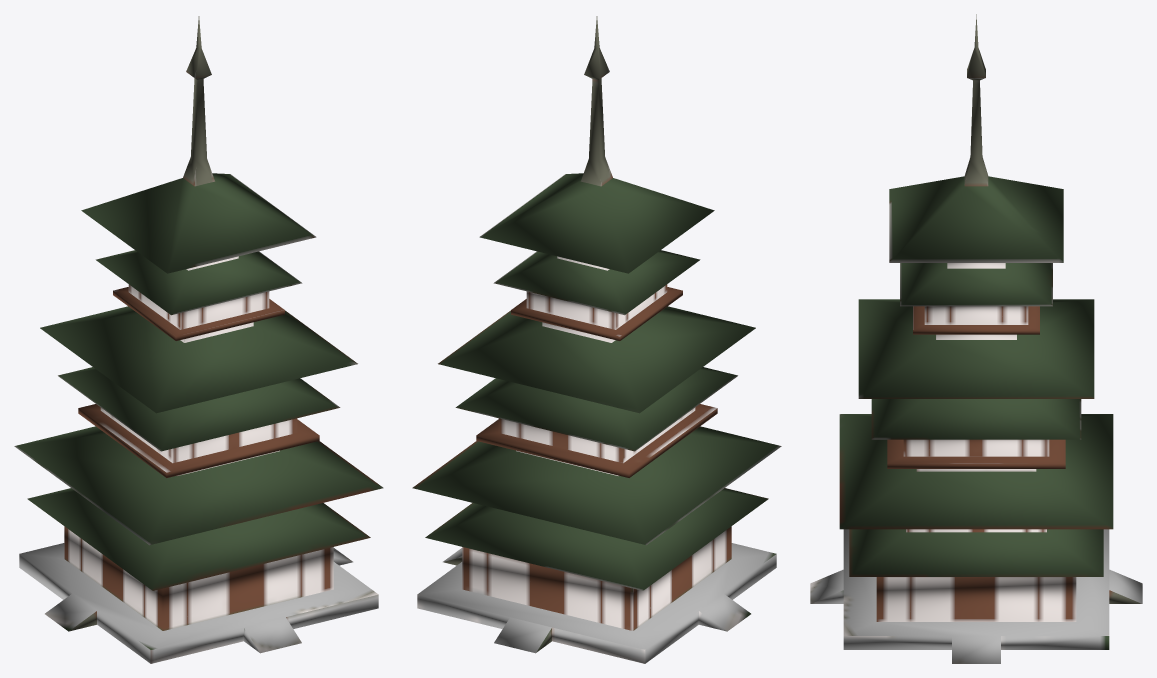
Rendered from pagode.fbx.
3 renders of one model, left to right at view 1: azimuth 30°, elevation 25°; view 2: azimuth 150°, elevation 25°; view 3: azimuth 270°, elevation 25°, orthographic.
Parts seen in each view (by area): view 1: Cube; view 2: Cube; view 3: Cube.
Part boxes in pixels (left/top/right/bottom): Cube: left=14, top=16, right=383, bottom=663; Cube: left=412, top=16, right=781, bottom=663; Cube: left=810, top=14, right=1142, bottom=663.
Bounding box in the file's own units: 5 × 9.63 × 5.
